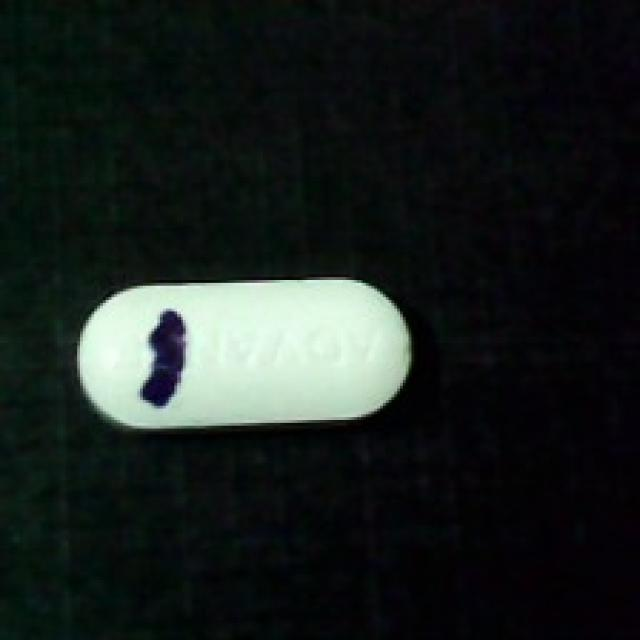defected: (69, 274, 414, 440)
